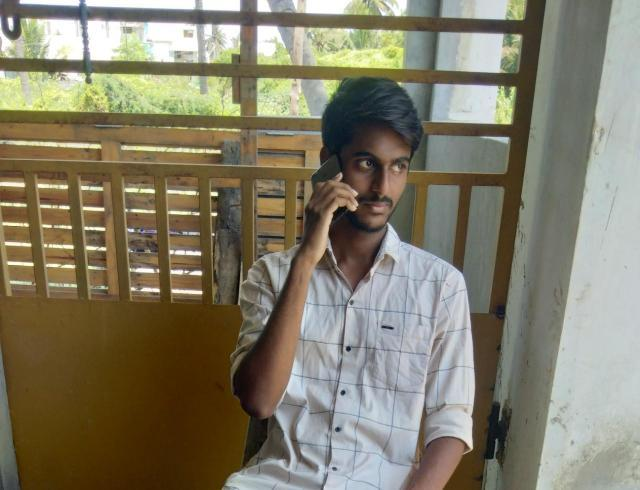PhoneUse: (308, 156, 350, 214)
SafeDriving: (354, 153, 378, 173), (388, 156, 408, 176)
